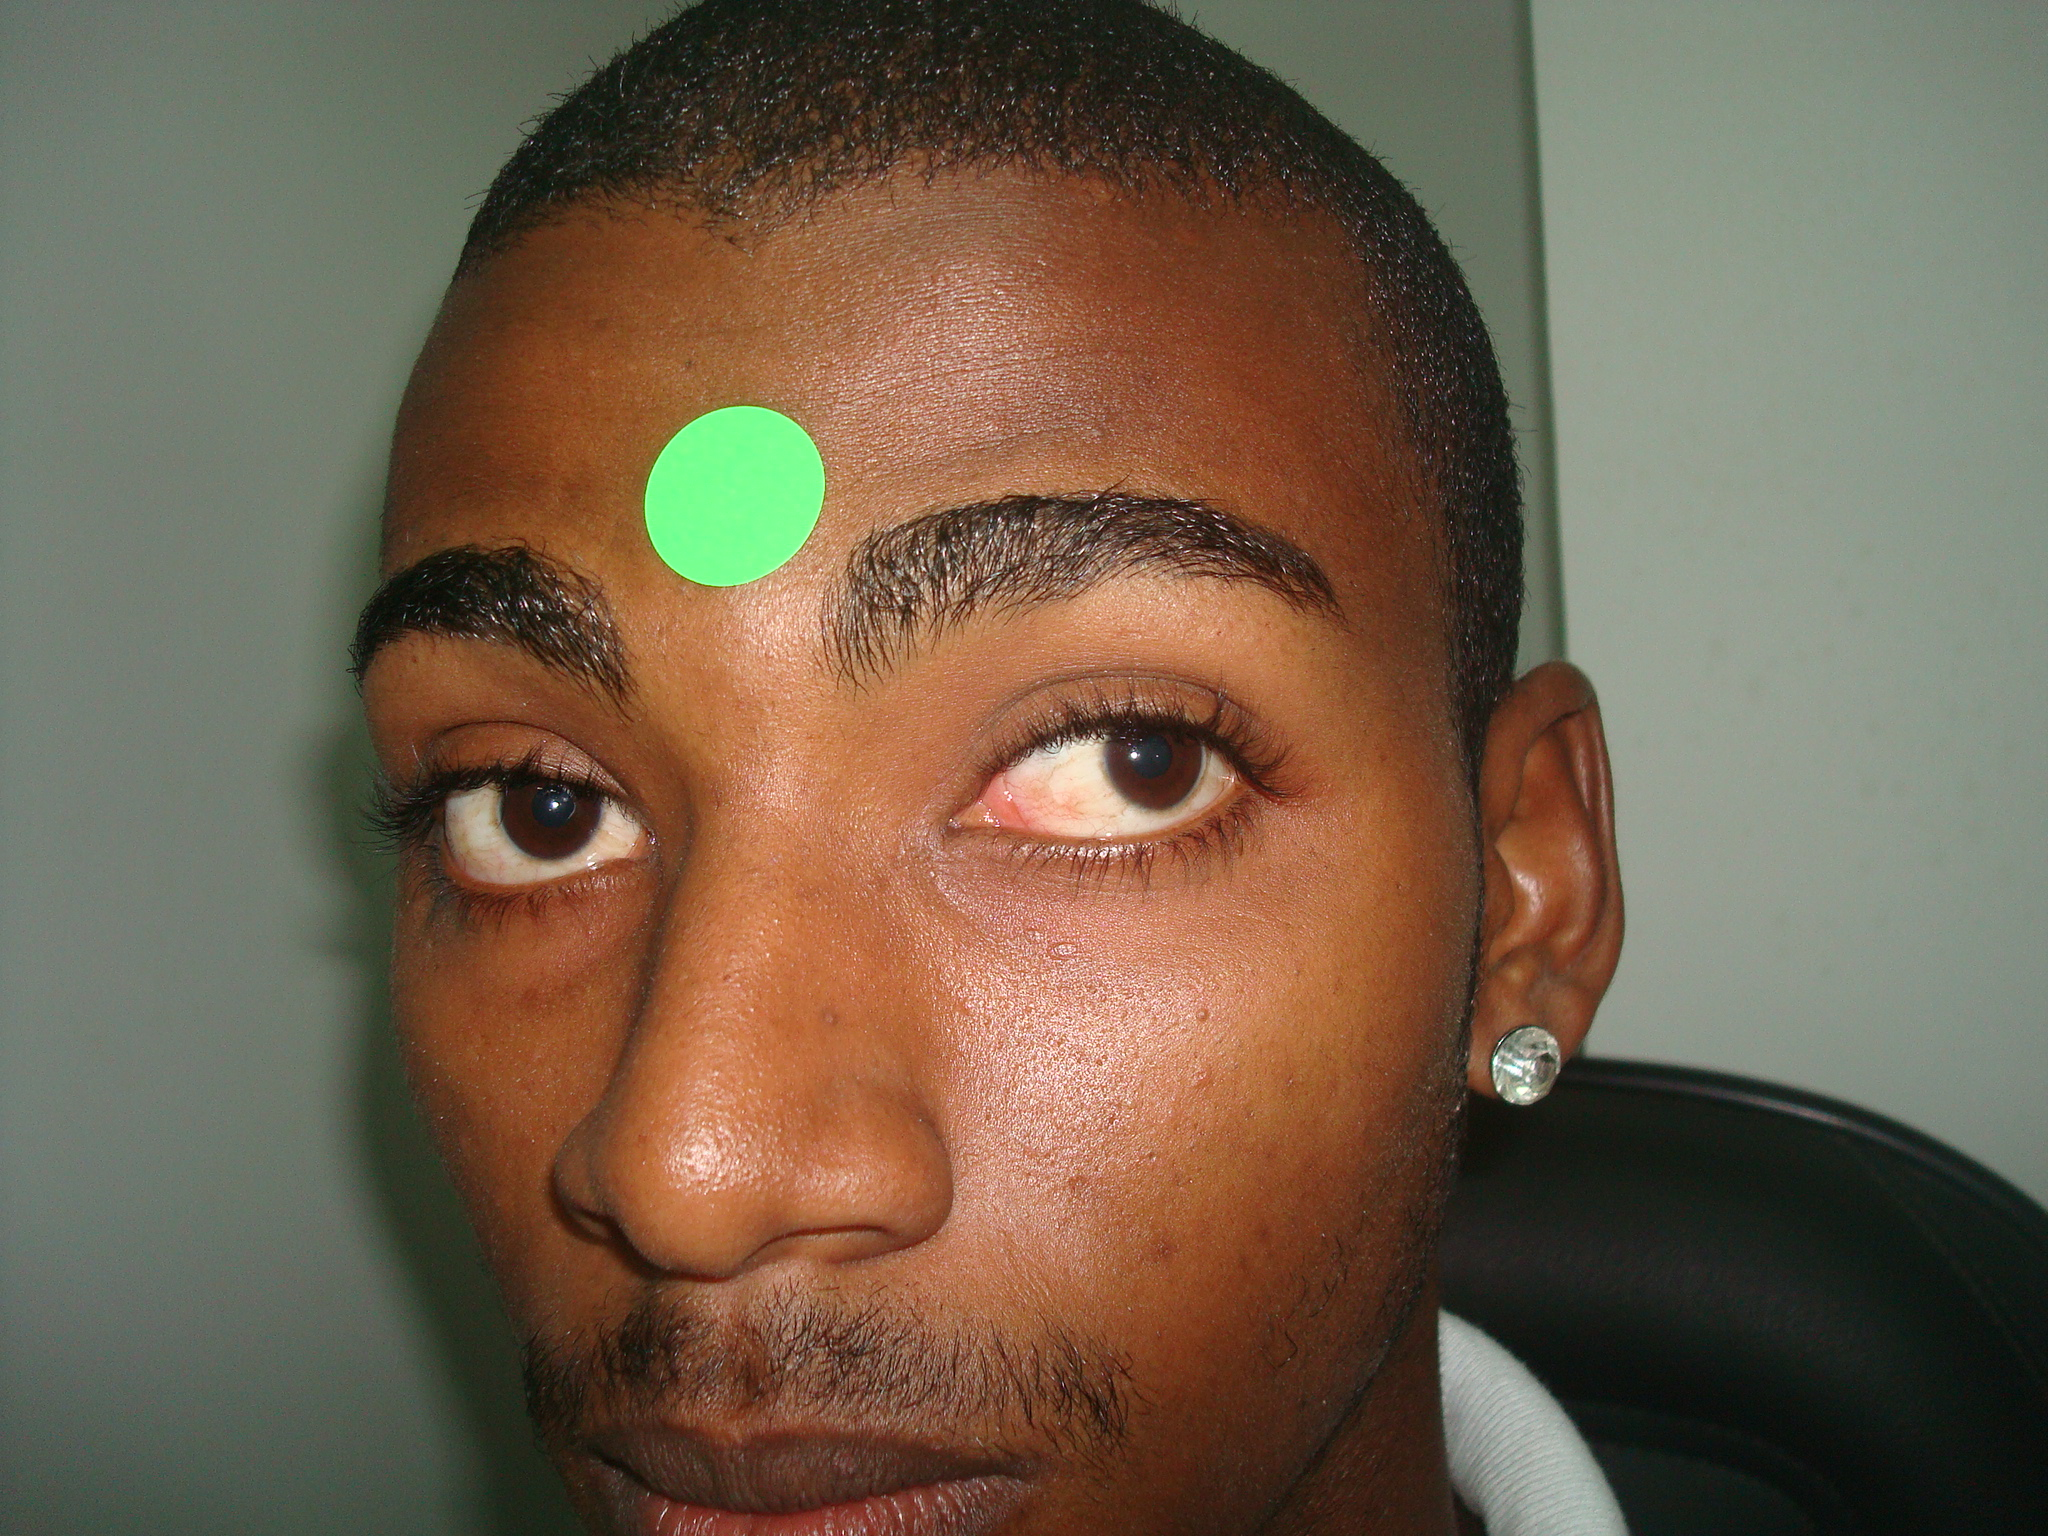flash: (547, 797, 563, 813), (1126, 747, 1142, 763)
limbo: (1101, 708, 1200, 802), (503, 763, 603, 850)
